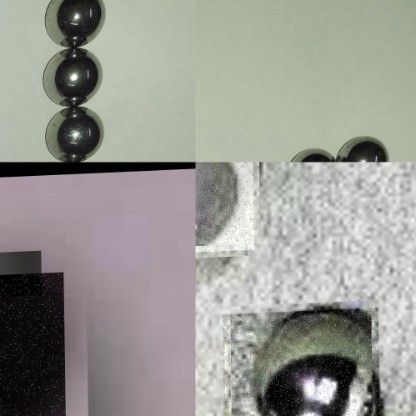ironball: (221, 310, 378, 415), (0, 273, 65, 415), (31, 47, 104, 105), (39, 106, 116, 160), (41, 0, 108, 44), (338, 131, 392, 163)
